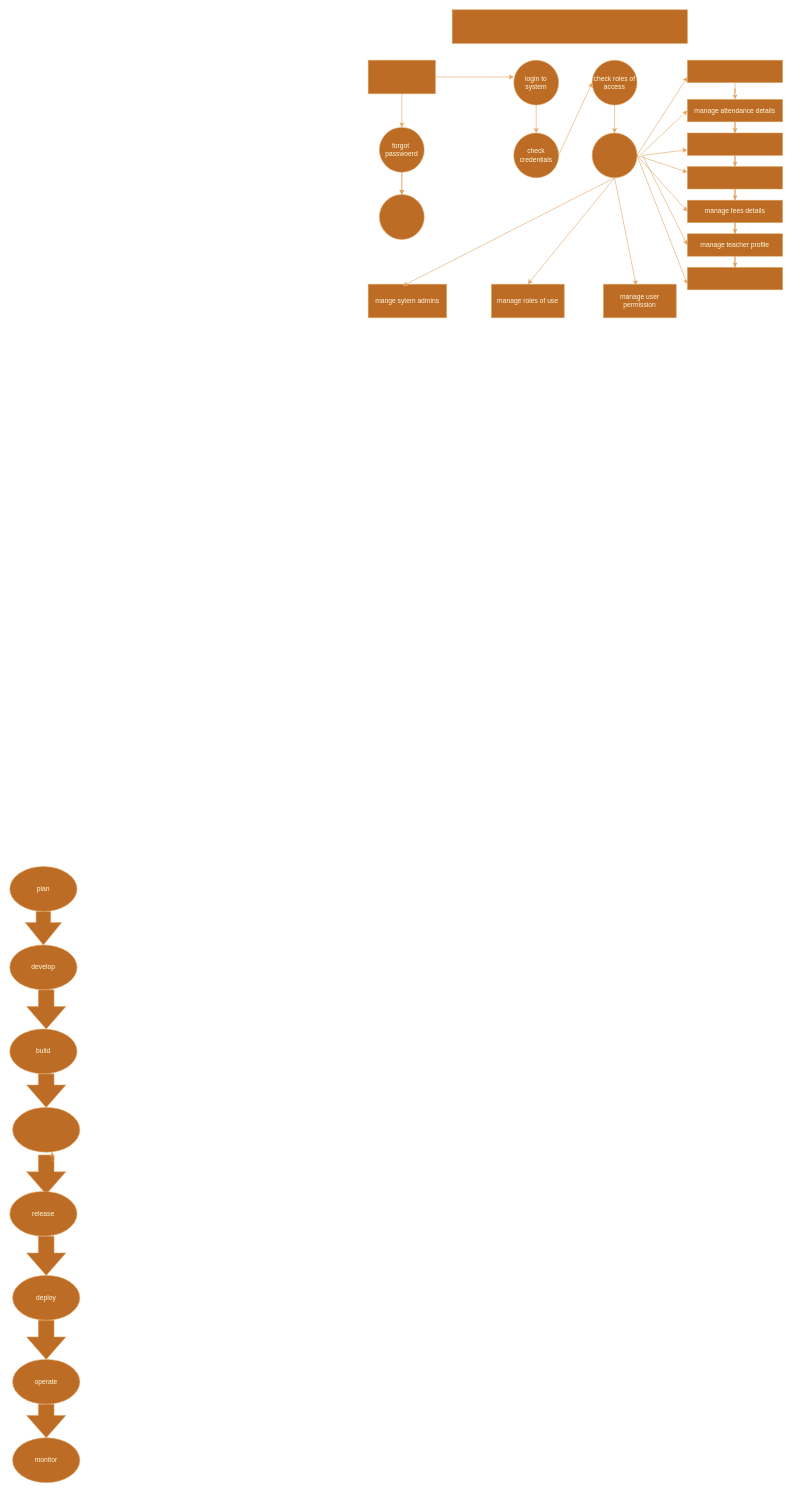
Image size: 792x1492. Some labels were removed from this diagram. Here are the shapes that lost their labels. From the top down, the box of each, then its label:
(452, 9, 687, 43): student information system
(368, 60, 435, 94): admin
(687, 60, 783, 83): manage time table details
(592, 132, 637, 178): manage modules
(687, 132, 783, 155): manage class details
(687, 166, 783, 189): manage student deatils
(379, 194, 424, 239): send email to user
(687, 267, 783, 290): manage report
(12, 1107, 80, 1152): test
